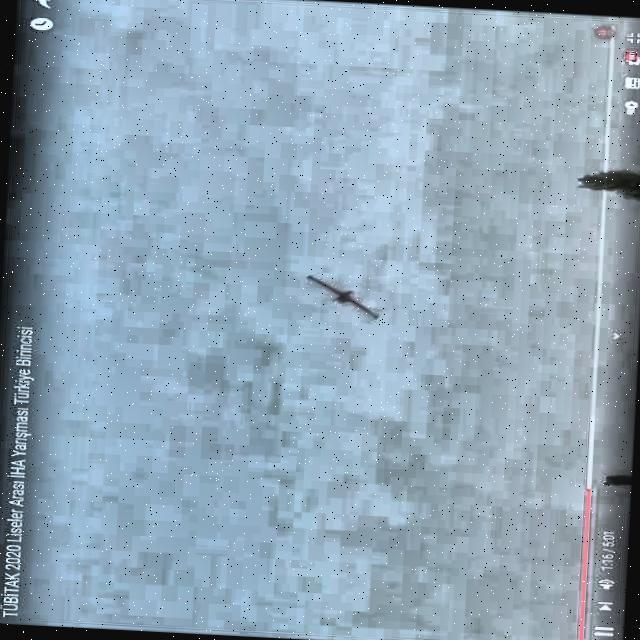iha: (321, 268, 360, 319)
